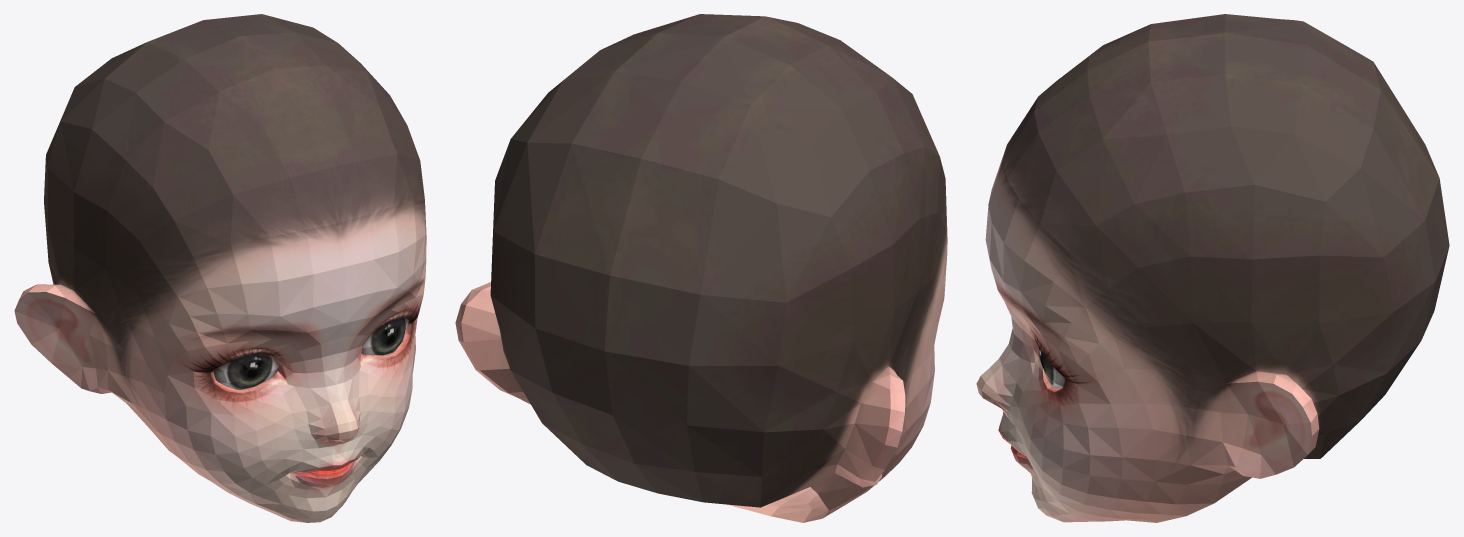
Rendered from mesh1.dat.obj.
The picture shows the model from 3 angles, left to right: view 1: azimuth 30°, elevation 25°; view 2: azimuth 150°, elevation 25°; view 3: azimuth 270°, elevation 25°; orthographic projection. The views are drawn at different scales.
Parts seen in each view (by area): view 1: Object002; view 2: Object002; view 3: Object002.
Part boxes in pixels (x1,y1,x2,y2): Object002: (14, 14, 426, 522); Object002: (455, 14, 947, 522); Object002: (976, 14, 1449, 522).
Size of the model in its own units: 1.24 by 1.36 by 1.21.
1 material, 1 textured.
